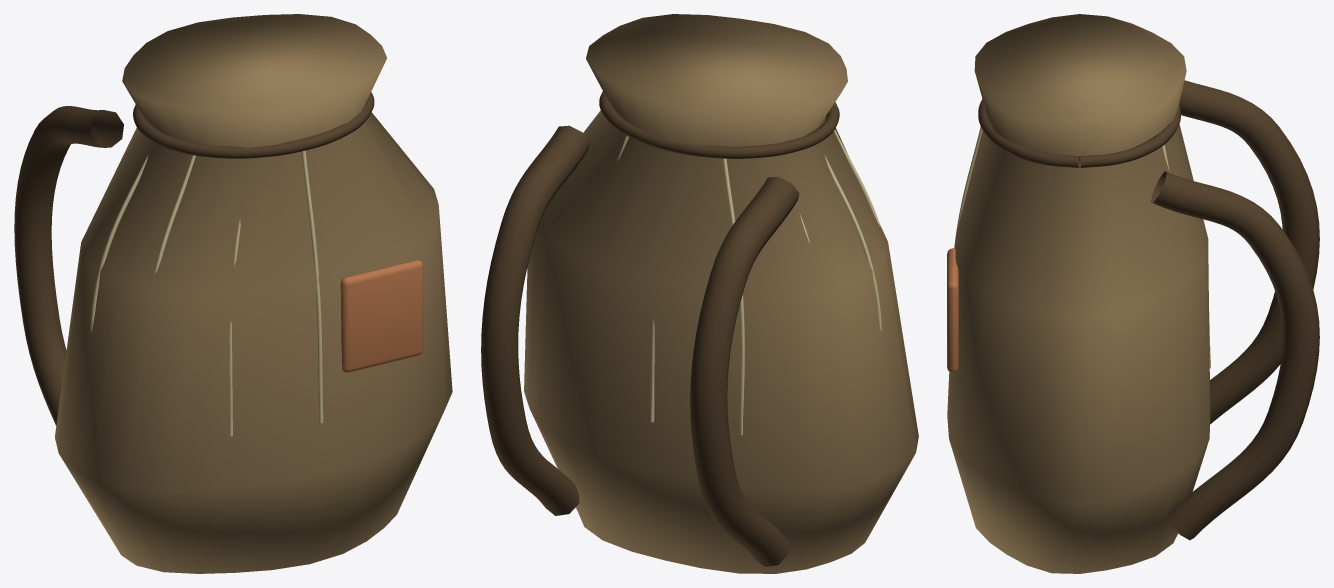
Rendered from sack.glb.
3 renders of one model, left to right at view 1: azimuth 30°, elevation 25°; view 2: azimuth 150°, elevation 25°; view 3: azimuth 270°, elevation 25°, orthographic. The views are drawn at different scales.
Visible parts, largest first — view 1: Folded cloth sack, Shoulder strap, Repair patch, Drawcord, Puckered seam.009, Puckered seam.006, Puckered seam.007; view 2: Folded cloth sack, Shoulder strap, Shoulder strap.001, Drawcord, Puckered seam.004, Puckered seam.006; view 3: Folded cloth sack, Shoulder strap.001, Shoulder strap, Drawcord, Repair patch.
Part boxes in pixels (x1,y1,x2,y2): Folded cloth sack: (55,14,452,573); Shoulder strap: (14,106,123,425); Repair patch: (340,260,423,372); Drawcord: (133,92,374,158); Puckered seam.009: (301,150,323,423); Puckered seam.006: (90,155,147,332); Puckered seam.007: (154,155,195,274); Folded cloth sack: (524,14,918,573); Shoulder strap: (690,176,799,566); Shoulder strap.001: (481,125,590,515); Drawcord: (599,91,839,158); Puckered seam.004: (722,158,744,435); Puckered seam.006: (824,155,881,331); Folded cloth sack: (947,14,1210,573); Shoulder strap.001: (1150,171,1319,540); Shoulder strap: (1179,80,1319,424); Drawcord: (978,99,1180,167); Repair patch: (947,248,958,372).
Bounding box in the file's own units: 0.7788 × 0.92 × 0.7058.
